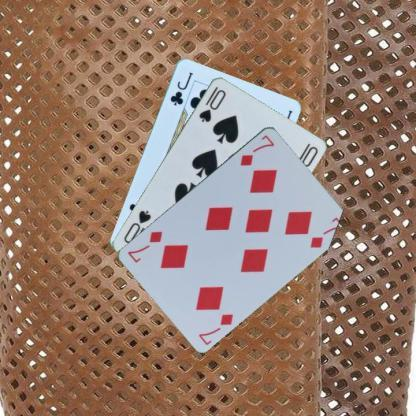10s: (196, 83, 227, 124)
7d: (196, 310, 234, 346), (238, 132, 275, 167)
Jc: (167, 69, 194, 107)
